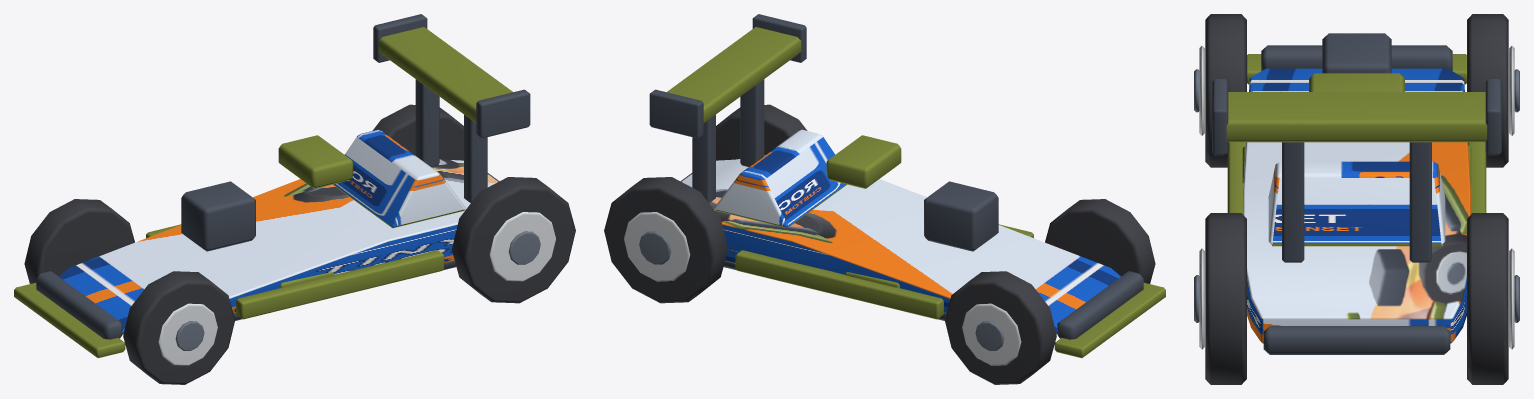
3 renders of one model, left to right at view 1: azimuth 30°, elevation 25°; view 2: azimuth 150°, elevation 25°; view 3: azimuth 270°, elevation 25°, orthographic. The views are drawn at different scales.
Visible parts, largest first — view 1: TC-04_connected_shell, Tire.002, TC-04_cabin, Tire, Tire.001, rear airfoil, custom side guard, engine scoop, custom equipment, Rim.002, custom chin, front bumper (+8 smaller); view 2: TC-04_connected_shell, Tire.003, TC-04_cabin, Tire.001, Tire, rear airfoil, custom side guard.001, engine scoop, custom equipment, Rim.003, custom chin, front bumper (+8 smaller); view 3: TC-04_connected_shell, rear airfoil, TC-04_cabin, Tire.002, Tire.003, rear bumper, Tire, Tire.001, front bumper, engine scoop, wing support, wing support.001 (+10 smaller).
Part boxes in pixels (x1=…): TC-04_connected_shell: x1=59, y1=155, x2=497, y2=334; Tire.002: x1=451, y1=177, x2=575, y2=303; TC-04_cabin: x1=333, y1=129, x2=465, y2=228; Tire: x1=123, y1=271, x2=234, y2=384; Tire.001: x1=24, y1=199, x2=134, y2=283; rear airfoil: x1=378, y1=27, x2=512, y2=122; custom side guard: x1=236, y1=250, x2=444, y2=319; engine scoop: x1=181, y1=181, x2=255, y2=251; custom equipment: x1=278, y1=135, x2=353, y2=188; Rim.002: x1=489, y1=212, x2=555, y2=281; custom chin: x1=14, y1=282, x2=125, y2=358; front bumper: x1=36, y1=271, x2=122, y2=339; TC-04_connected_shell: x1=682, y1=155, x2=1120, y2=334; Tire.003: x1=604, y1=177, x2=728, y2=303; TC-04_cabin: x1=714, y1=129, x2=846, y2=228; Tire.001: x1=945, y1=271, x2=1056, y2=384; Tire: x1=1045, y1=199, x2=1155, y2=283; rear airfoil: x1=667, y1=27, x2=801, y2=122; custom side guard.001: x1=735, y1=250, x2=943, y2=319; engine scoop: x1=924, y1=181, x2=998, y2=251; custom equipment: x1=826, y1=135, x2=901, y2=188; Rim.003: x1=624, y1=212, x2=690, y2=281; custom chin: x1=1054, y1=282, x2=1165, y2=358; front bumper: x1=1057, y1=271, x2=1143, y2=339; TC-04_connected_shell: x1=1243, y1=68, x2=1470, y2=343; rear airfoil: x1=1226, y1=92, x2=1487, y2=142; TC-04_cabin: x1=1268, y1=161, x2=1445, y2=246; Tire.002: x1=1205, y1=213, x2=1246, y2=384; Tire.003: x1=1467, y1=213, x2=1508, y2=384; rear bumper: x1=1263, y1=326, x2=1450, y2=354; Tire: x1=1205, y1=14, x2=1246, y2=167; Tire.001: x1=1467, y1=14, x2=1508, y2=167; front bumper: x1=1261, y1=45, x2=1452, y2=70; engine scoop: x1=1322, y1=33, x2=1391, y2=73; wing support: x1=1282, y1=142, x2=1304, y2=262; wing support.001: x1=1409, y1=142, x2=1431, y2=262.
Bounding box in the file's own units: 444 × 189 × 203.
